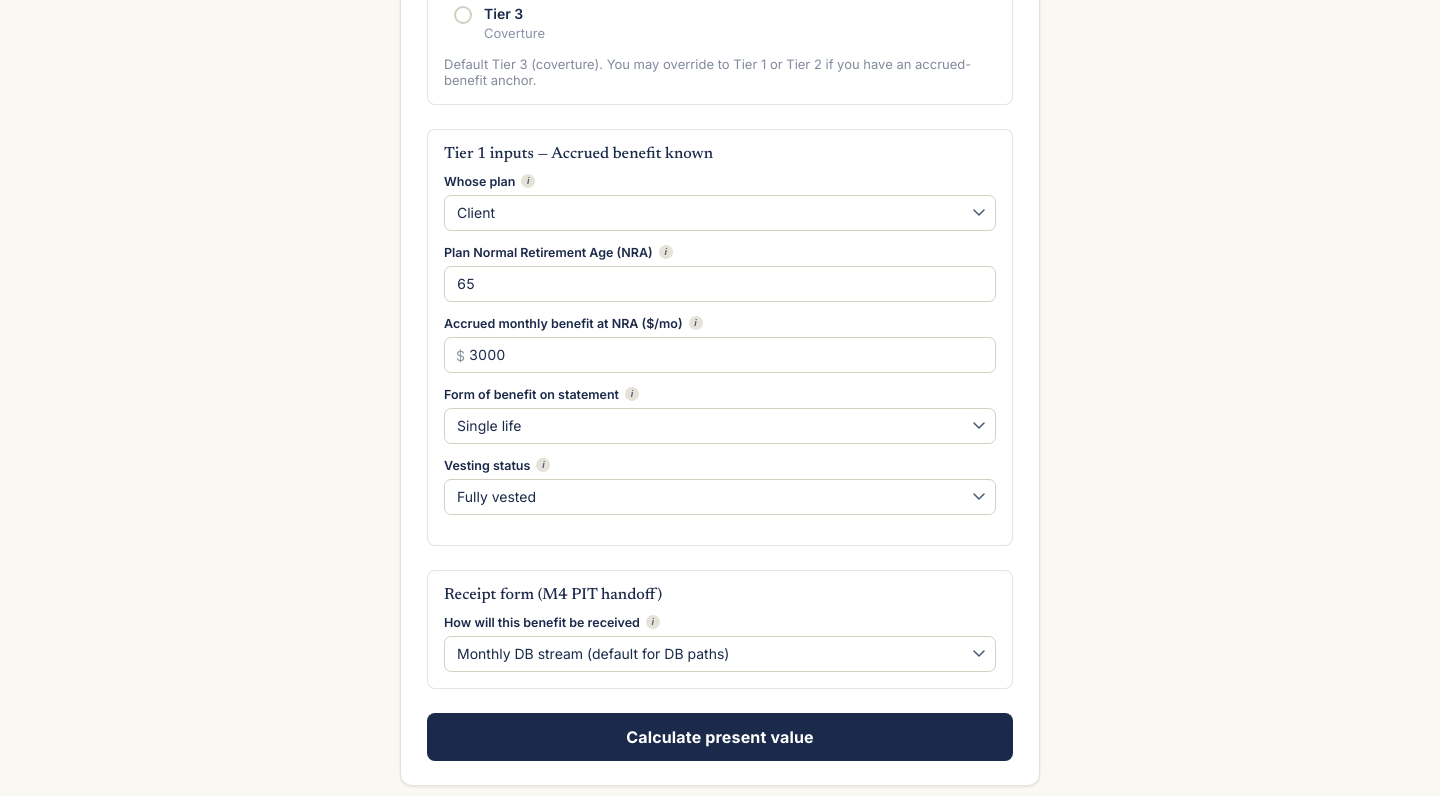
Test: PVA orchestrator (§7.10.3 / LL-17) › TC-PVA-Orchestrator-5: seedOverride bypasses m2 and renders the InputsPanel + ResultsPanel for tier_1
The image size is (1440, 796).
(page scrolled)
Step 1. Click the button "Calculate present value" → (720, 737), box [427,713,1013,761]
(page scrolled)
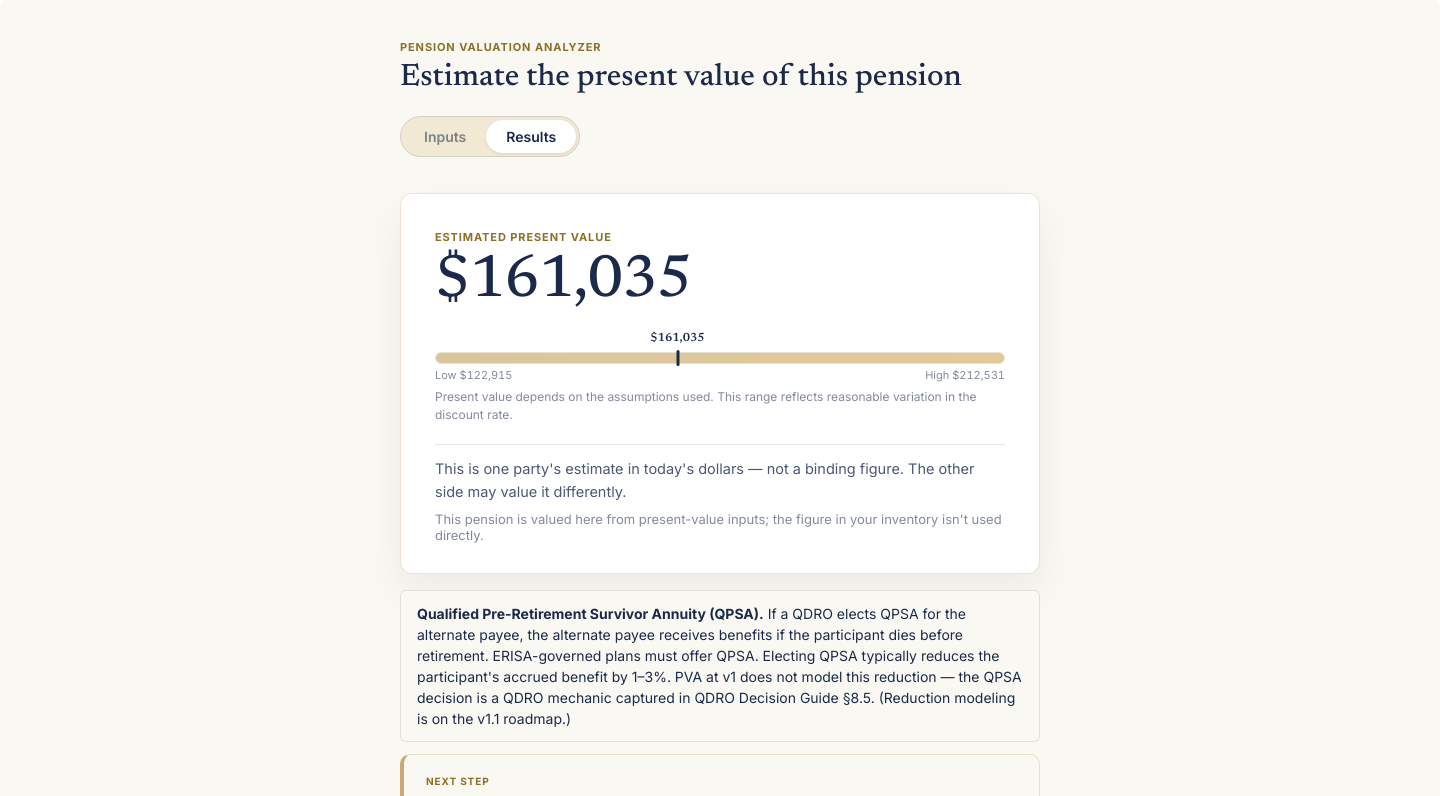
Now the text with test id "pva-bignumber-headline" is shown, box [435,252,692,312]
